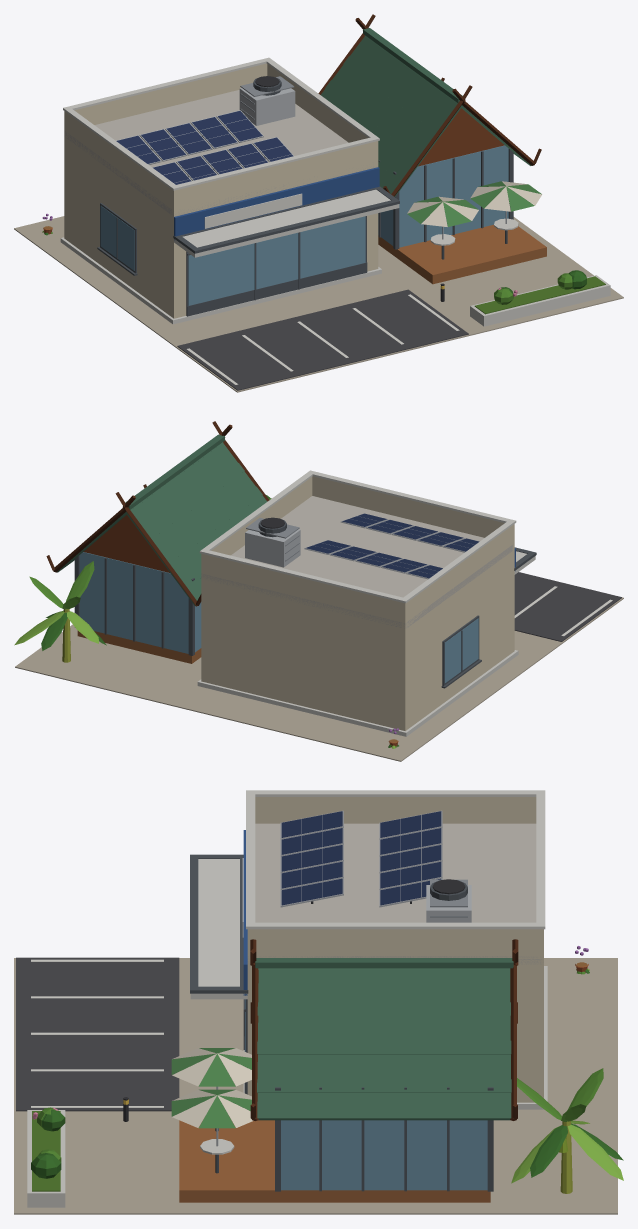
The model's file is shop_1.glb.
3 views of the same model, one above another, from view 1: azimuth 30°, elevation 25°; view 2: azimuth 150°, elevation 25°; view 3: azimuth 270°, elevation 25° (orthographic). The views are drawn at different scales.
Visible parts, largest first — view 1: body; view 2: body; view 3: body.
Part boxes in pixels (x1,y1,x2,y2): body: (14, 14, 623, 392); body: (14, 421, 623, 761); body: (14, 790, 623, 1214).
Bounding box in the file's own units: 16.16 × 6.65 × 16.06.
